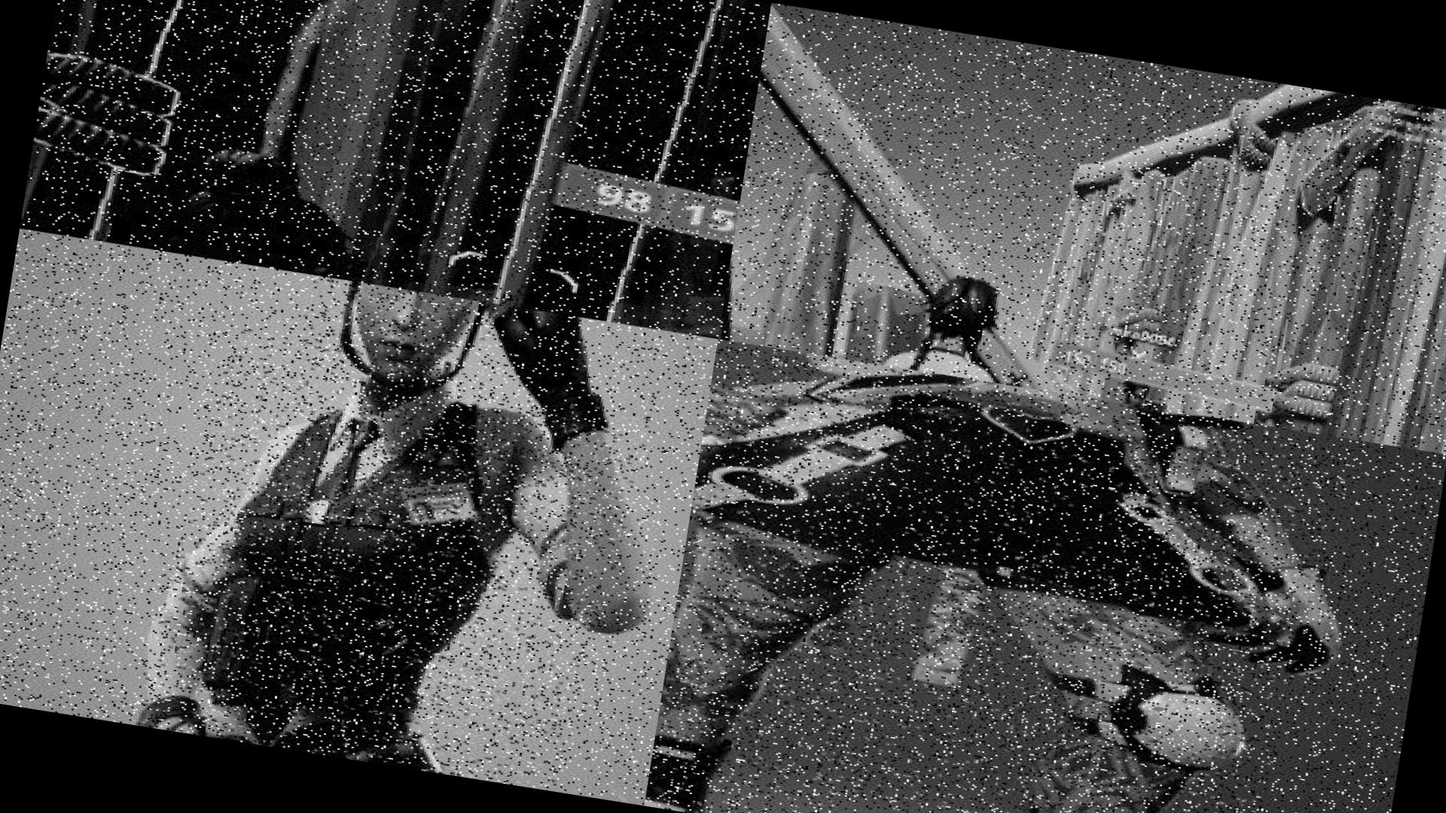player: (644, 338, 1367, 813), (135, 314, 664, 798)
